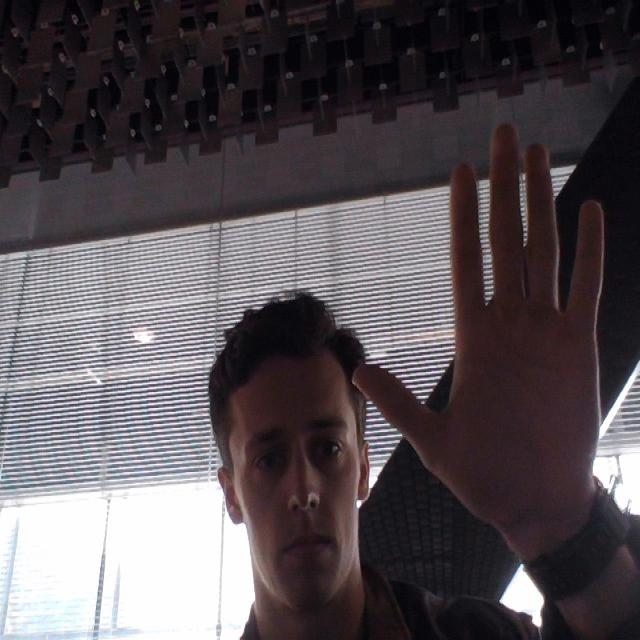backward: (337, 124, 612, 573)
